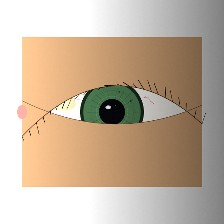pinguecula_lesion: (40, 85, 88, 123)
